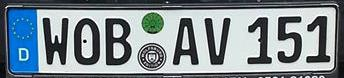1: (244, 16, 274, 65), (306, 15, 331, 63)
5: (276, 15, 304, 64)
A: (172, 15, 200, 67)
B: (104, 16, 132, 66)
O: (73, 18, 101, 66)
V: (202, 16, 233, 66)
W: (41, 16, 70, 66)
